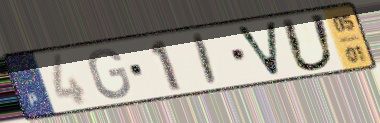1: (149, 37, 184, 94)
4: (53, 51, 92, 109)
G: (86, 47, 134, 101)
I: (191, 31, 220, 89)
U: (278, 12, 339, 74)
V: (233, 20, 283, 79)
